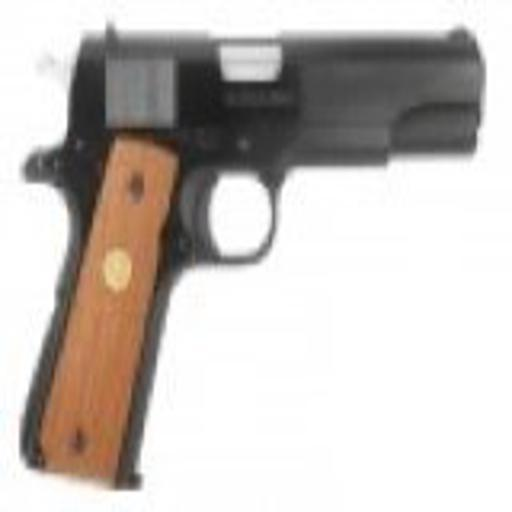Handgun: (11, 11, 488, 489)
